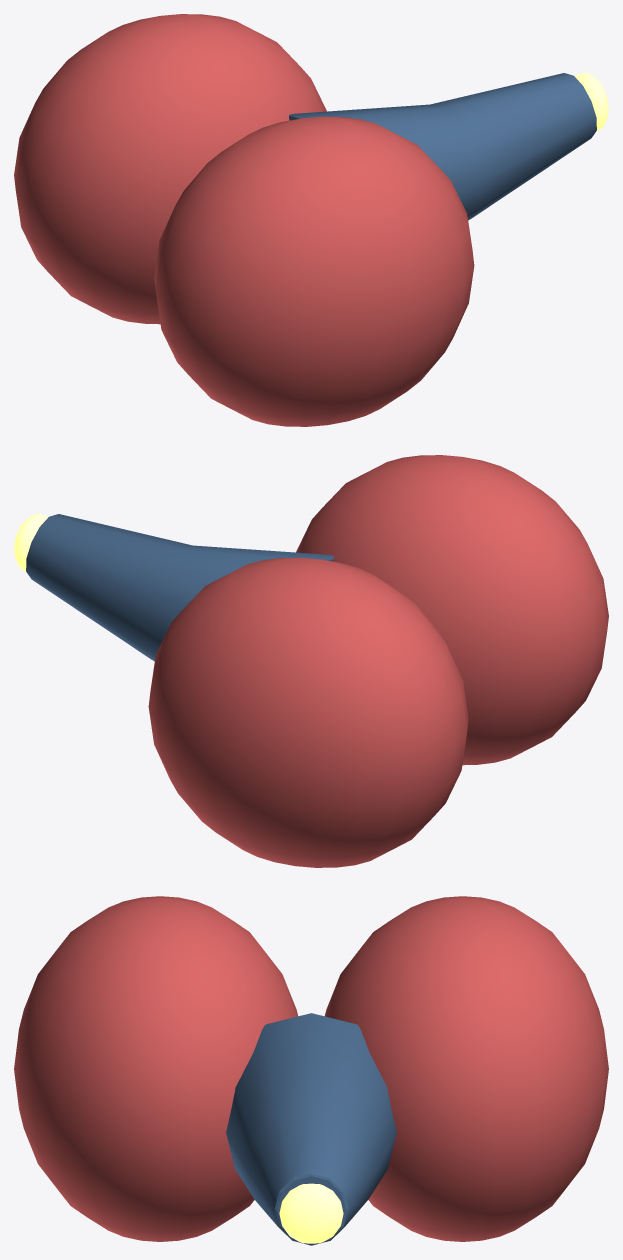
Rendered from sac_spitter.glb.
3 renders of one model, top to bottom at view 1: azimuth 30°, elevation 25°; view 2: azimuth 150°, elevation 25°; view 3: azimuth 270°, elevation 25°, orthographic. The views are drawn at different scales.
Visible parts, largest first — view 1: sac_spitter; view 2: sac_spitter; view 3: sac_spitter.
Boxes of the visible parts, x1,y1,x2,y2 form: sac_spitter: [14, 14, 608, 426]; sac_spitter: [14, 455, 608, 867]; sac_spitter: [14, 896, 608, 1245].
Bounding box in the file's own units: 1.24 × 0.68 × 1.18.
